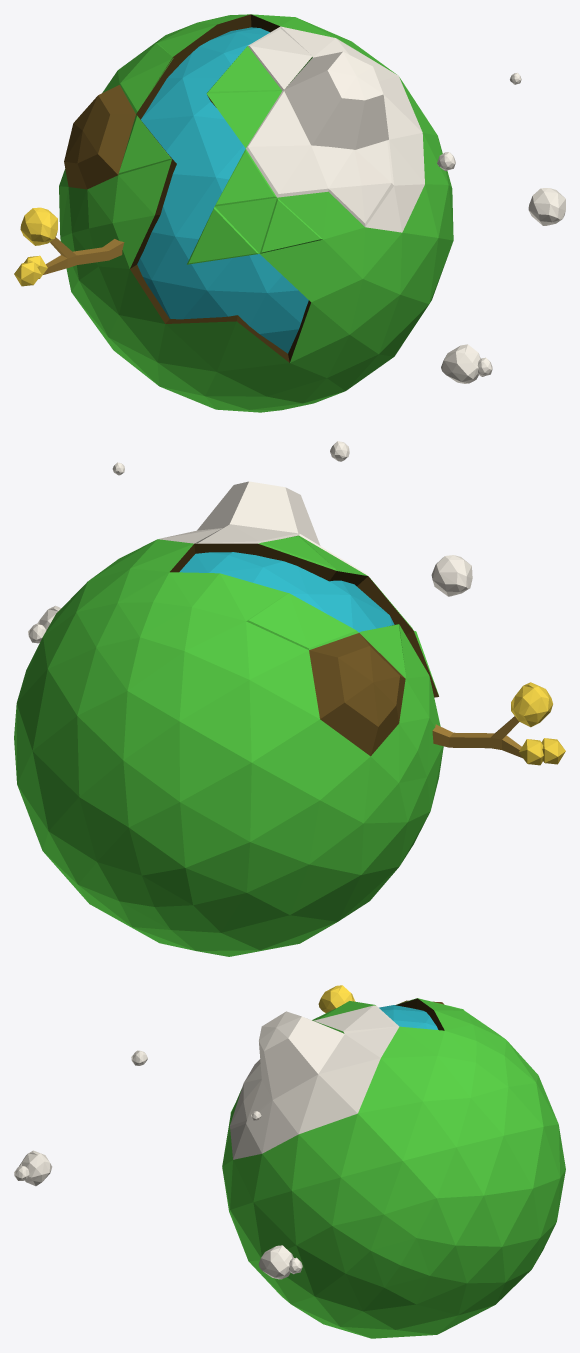
File: plaent-test01.fbx
3 views of the same model, one above another, from view 1: azimuth 30°, elevation 25°; view 2: azimuth 150°, elevation 25°; view 3: azimuth 270°, elevation 25° (orthographic). The views are drawn at different scales.
Visible parts, largest first — view 1: 球体, 球体_1, 立方体, 球体_2, 球体_8, 球体_5; view 2: 球体, 球体_1, 立方体, 球体_8, 球体_2; view 3: 球体, 球体_1, 球体_5, 球体_2, 球体_8.
Part boxes in pixels (x1,y1,x2,y2): 球体: [59, 14, 453, 412]; 球体_1: [137, 27, 308, 353]; 立方体: [43, 237, 124, 274]; 球体_2: [441, 344, 480, 383]; 球体_8: [20, 207, 57, 245]; 球体_5: [528, 188, 565, 225]; 球体: [14, 481, 443, 956]; 球体_1: [179, 552, 394, 632]; 立方体: [432, 716, 522, 758]; 球体_8: [511, 682, 552, 727]; 球体_2: [431, 555, 472, 596]; 球体: [222, 998, 565, 1338]; 球体_1: [379, 1005, 438, 1029]; 球体_5: [258, 1245, 293, 1279]; 球体_2: [19, 1150, 52, 1186]; 球体_8: [318, 985, 355, 1012].
Bounding box in the file's own units: 748 × 513 × 801.
